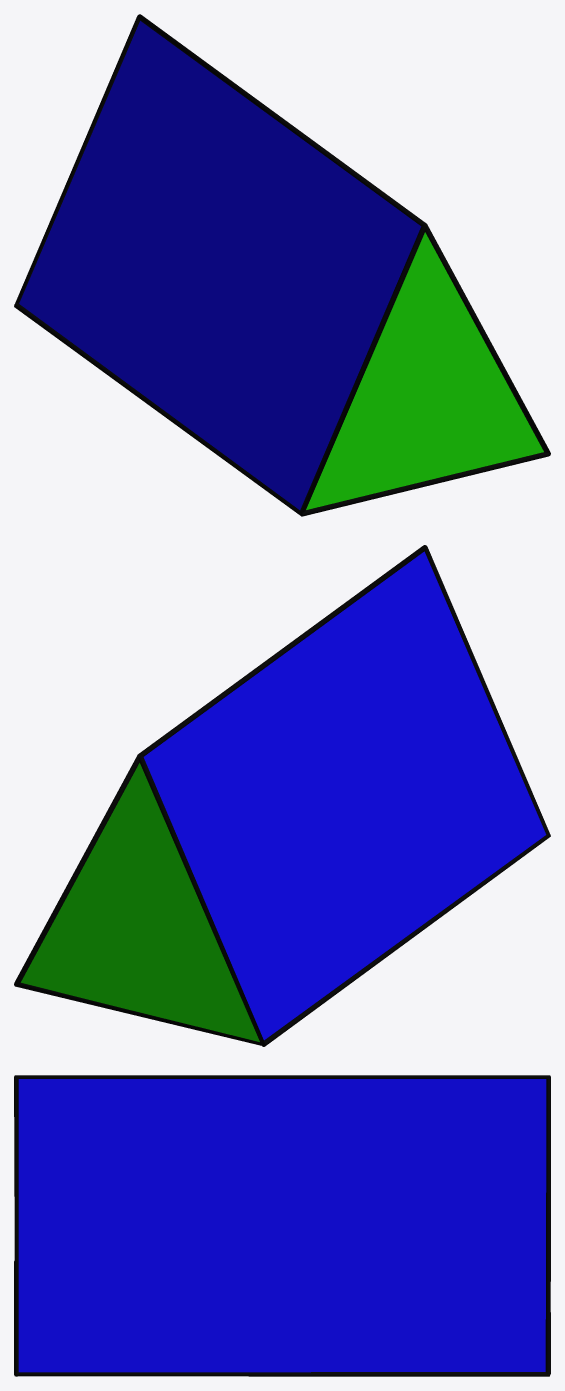
The model's file is Prism.fbx.
The picture shows the model from 3 angles, top to bottom: view 1: azimuth 30°, elevation 25°; view 2: azimuth 150°, elevation 25°; view 3: azimuth 270°, elevation 25°; orthographic projection. The views are drawn at different scales.
Visible parts, largest first — view 1: Lateral Face, Base, Vertex; view 2: Lateral Face, Base, Vertex; view 3: Lateral Face, Vertex.
Part boxes in pixels (x1,y1,x2,y2): Lateral Face: (19,21,421,509); Base: (306,232,543,509); Vertex: (14,14,550,516); Lateral Face: (143,551,546,1040); Base: (21,763,259,1041); Vertex: (14,545,550,1046); Lateral Face: (18,1079,546,1372); Vertex: (14,1075,550,1376).
Size of the model in its own units: 50.96 by 50.88 by 101.
